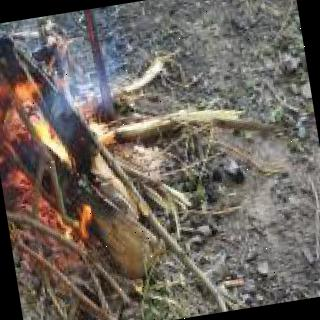fire: (12, 68, 80, 184), (48, 195, 106, 255)
